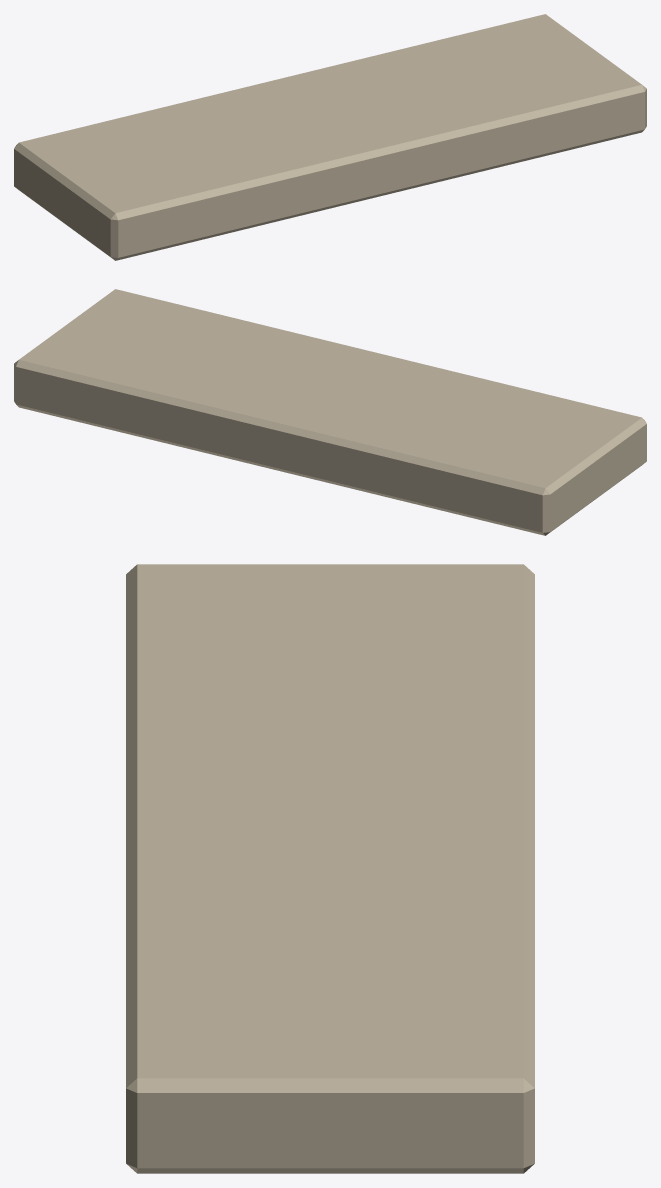
Rendered from street_kerb.glb.
3 views of the same model, one above another, from view 1: azimuth 30°, elevation 25°; view 2: azimuth 150°, elevation 25°; view 3: azimuth 270°, elevation 25° (orthographic). The views are drawn at different scales.
Visible parts, largest first — view 1: kerb; view 2: kerb; view 3: kerb.
Boxes of the visible parts, x1,y1,x2,y2 form: kerb: (14,14,646,260); kerb: (14,289,646,535); kerb: (126,564,534,1173).
Size of the model in its own units: 2 by 0.17 by 0.66.
